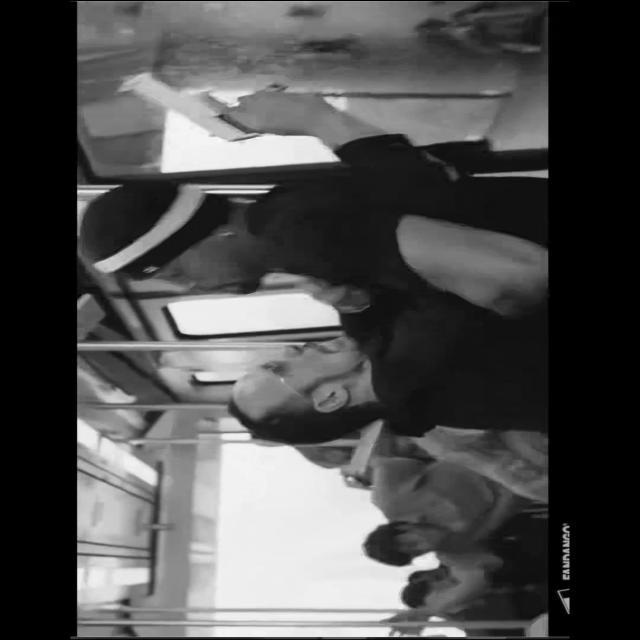weapons: (108, 64, 296, 140)
